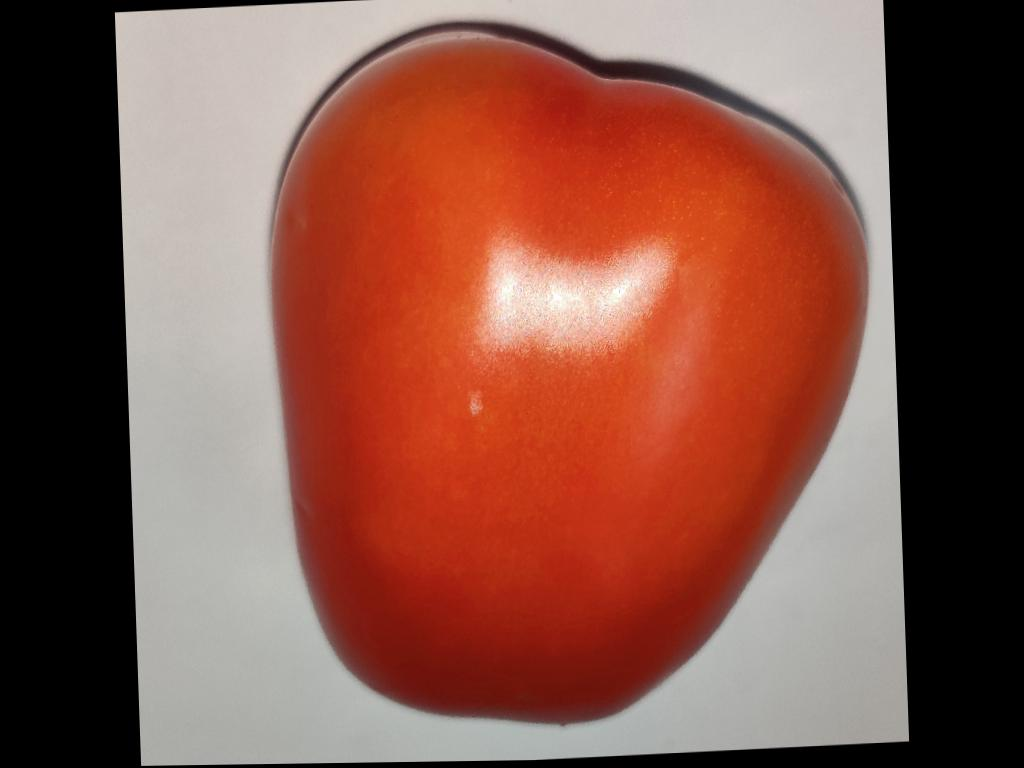tomato: (273, 30, 866, 722)
